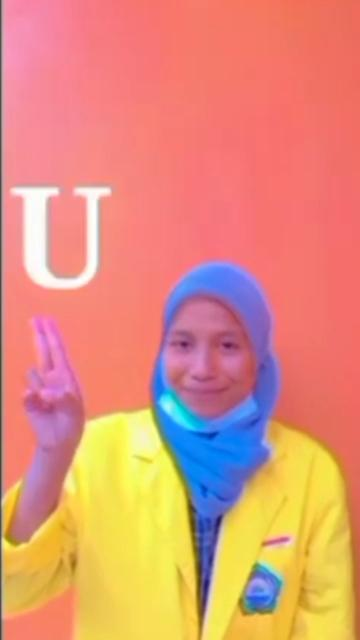U: (18, 315, 96, 461)
